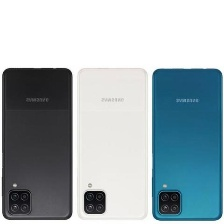phone: (72, 62, 150, 223), (0, 66, 75, 222), (151, 64, 224, 224)
